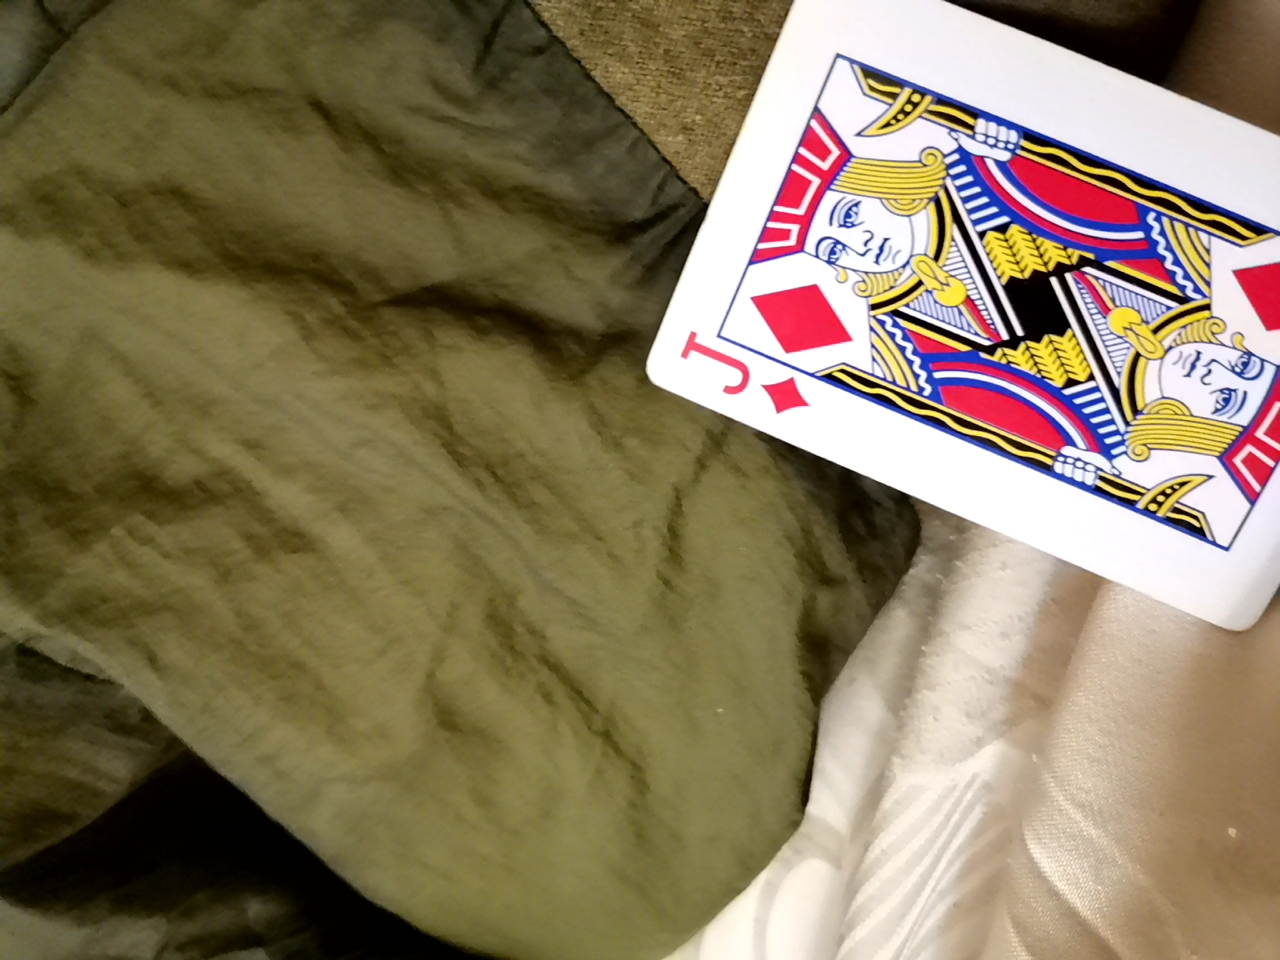fk j: (646, 6, 1277, 655)
